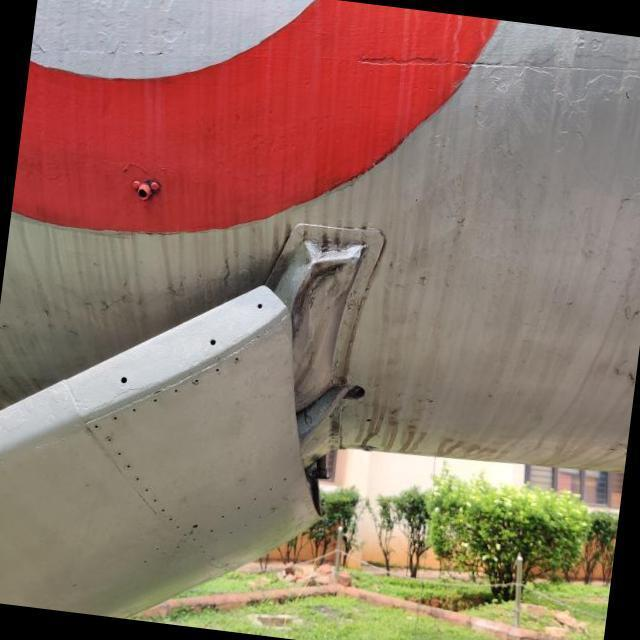Dent: (274, 228, 378, 394)
